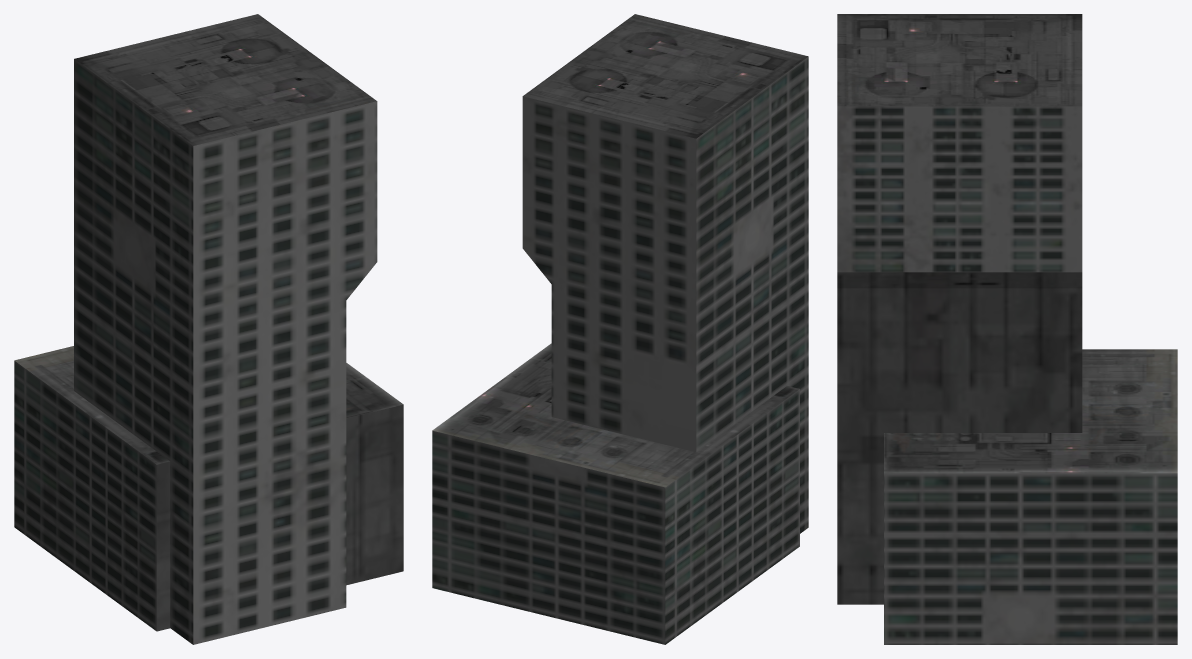
The model's file is scifi_building_19.obj.
3 renders of one model, left to right at view 1: azimuth 30°, elevation 25°; view 2: azimuth 150°, elevation 25°; view 3: azimuth 270°, elevation 25°, orthographic. The views are drawn at different scales.
Visible parts, largest first — view 1: building_19; view 2: building_19; view 3: building_19.
Part boxes in pixels (x1,y1,x2,y2): building_19: [14, 14, 403, 644]; building_19: [432, 14, 808, 644]; building_19: [837, 14, 1177, 644].
Size of the model in its own units: 42.24 by 81.53 by 49.
Materials: 1 (1 with a texture image).
